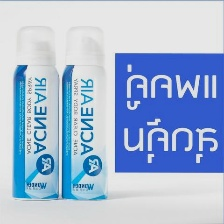aerosol_cans: (7, 21, 61, 203), (59, 24, 112, 203)
